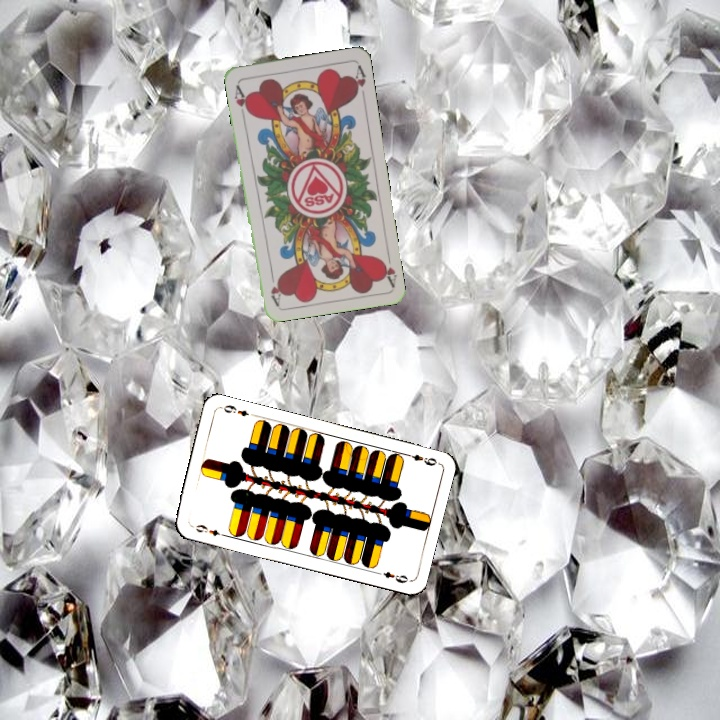E9: (400, 449, 439, 468), (192, 520, 228, 539)
HA: (376, 248, 399, 288), (230, 81, 252, 120)
